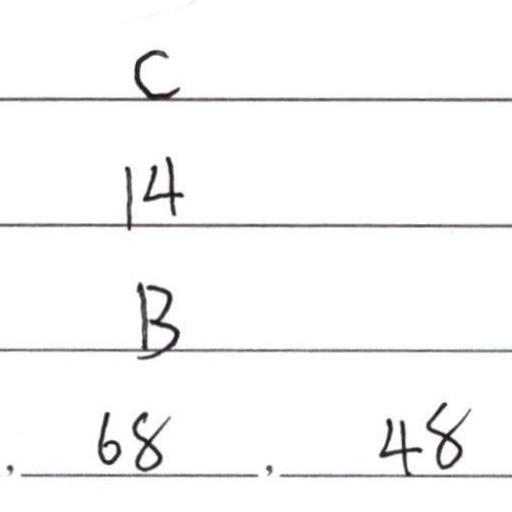ans: (377, 397, 473, 476), (96, 403, 174, 473), (120, 153, 184, 227), (132, 277, 181, 362), (131, 48, 182, 101)
